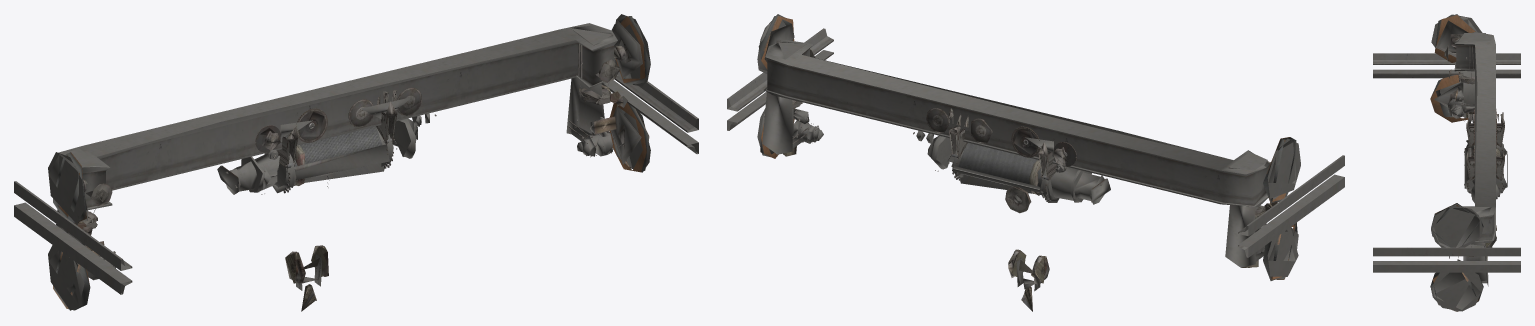
The model's file is overhead_crane_lod1.glb.
3 renders of one model, left to right at view 1: azimuth 30°, elevation 25°; view 2: azimuth 150°, elevation 25°; view 3: azimuth 270°, elevation 25°, orthographic. The views are drawn at different scales.
Visible parts, largest first — view 1: overhead_crane_rails, overhead_crane_winch; view 2: overhead_crane_rails, overhead_crane_winch; view 3: overhead_crane_rails, overhead_crane_winch.
Part boxes in pixels (box(x1,y1,x2,y2)): overhead_crane_rails: box(14, 14, 698, 310); overhead_crane_winch: box(53, 16, 650, 311); overhead_crane_rails: box(727, 14, 1344, 291); overhead_crane_winch: box(758, 16, 1297, 311); overhead_crane_rails: box(1373, 14, 1520, 311); overhead_crane_winch: box(1430, 14, 1505, 311).
Size of the model in its own units: 12.49 by 4.91 by 4.
2 materials, 2 textured.
